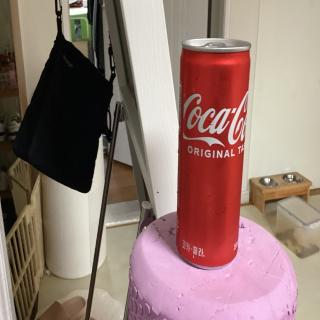cocacola: (177, 34, 254, 270)
